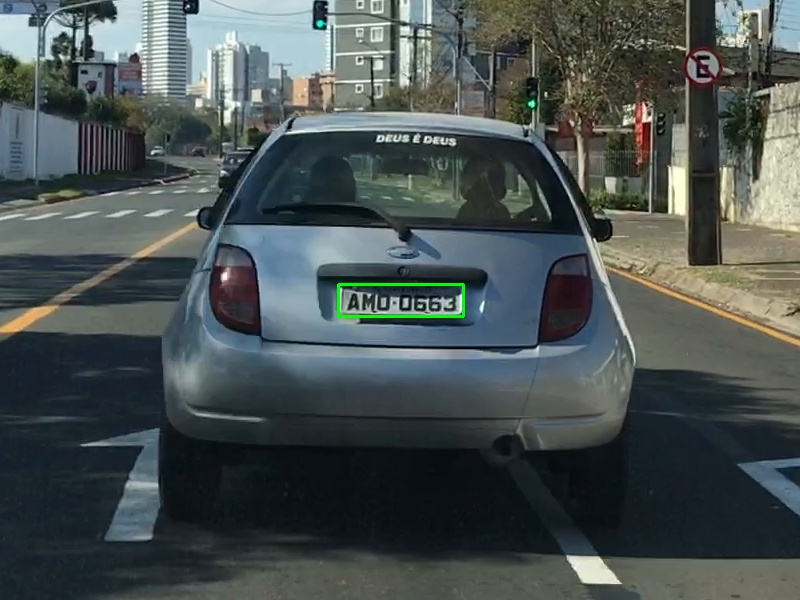placa: (338, 284, 463, 316)
